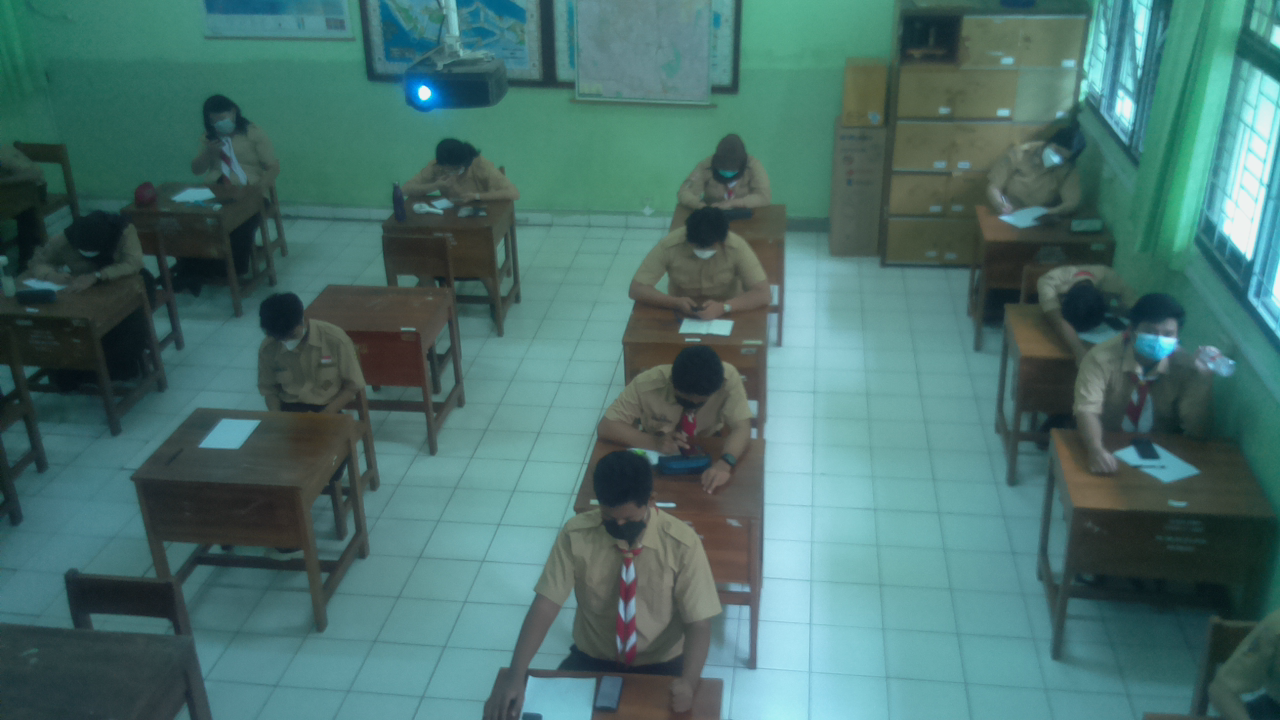Student: (563, 455, 710, 664), (1093, 300, 1199, 430), (627, 351, 745, 439), (659, 203, 755, 304), (259, 295, 352, 399), (997, 123, 1086, 206), (195, 91, 268, 190), (51, 211, 141, 278), (687, 131, 765, 205), (1043, 261, 1126, 329), (421, 137, 503, 202)
